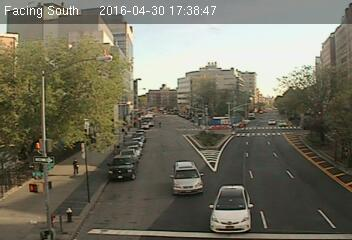neg: (74, 69, 91, 91), (318, 90, 333, 110), (321, 184, 335, 203), (175, 119, 188, 137), (288, 137, 300, 153), (34, 114, 46, 130), (33, 80, 45, 95), (326, 138, 337, 154), (42, 152, 53, 167), (32, 178, 43, 193), (120, 198, 131, 212), (204, 129, 214, 143), (272, 167, 282, 181), (189, 58, 199, 72), (241, 97, 251, 110), (227, 192, 236, 204), (150, 171, 159, 183), (284, 90, 293, 102), (142, 87, 151, 99), (117, 76, 126, 88), (72, 206, 80, 217), (188, 166, 194, 175), (136, 135, 141, 141)
pos: (66, 153, 84, 177)
